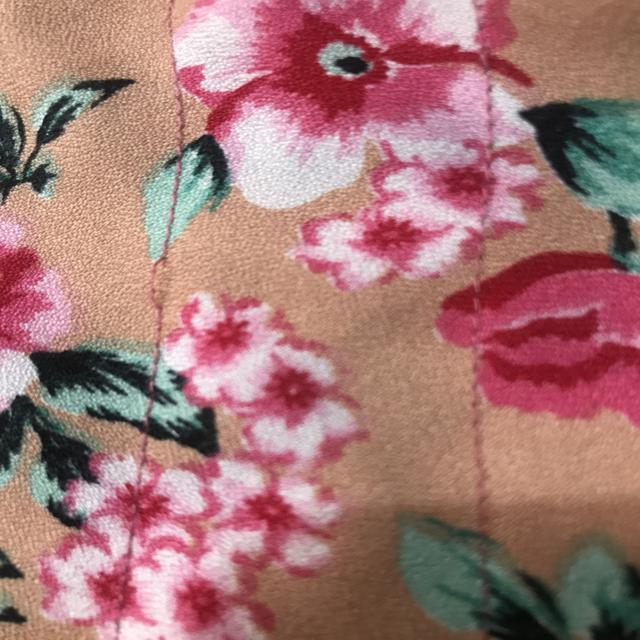skip: (140, 247, 188, 321)
